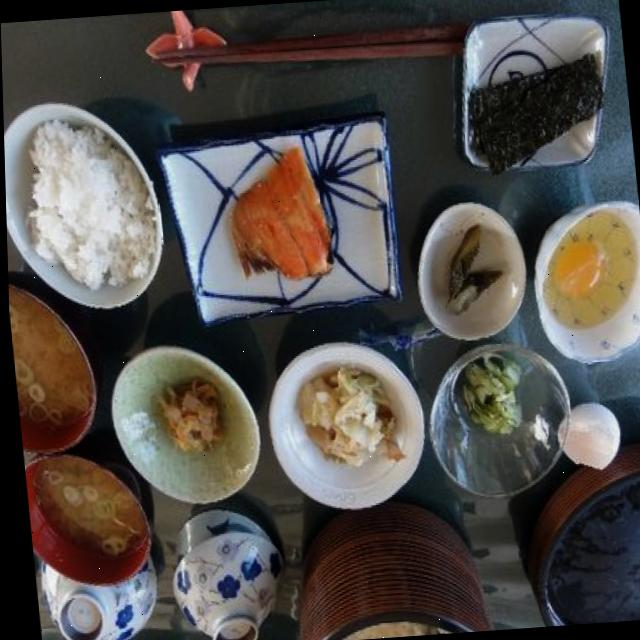汤锅炖物: (18, 434, 159, 604), (6, 256, 106, 466)
熟制海鲜: (148, 103, 417, 340)
米饭主食: (2, 73, 175, 326)
